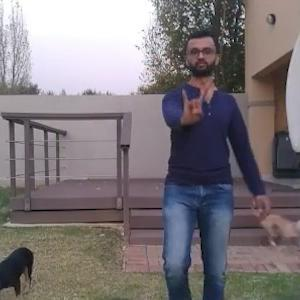takeoff-hand: (176, 76, 210, 129)
